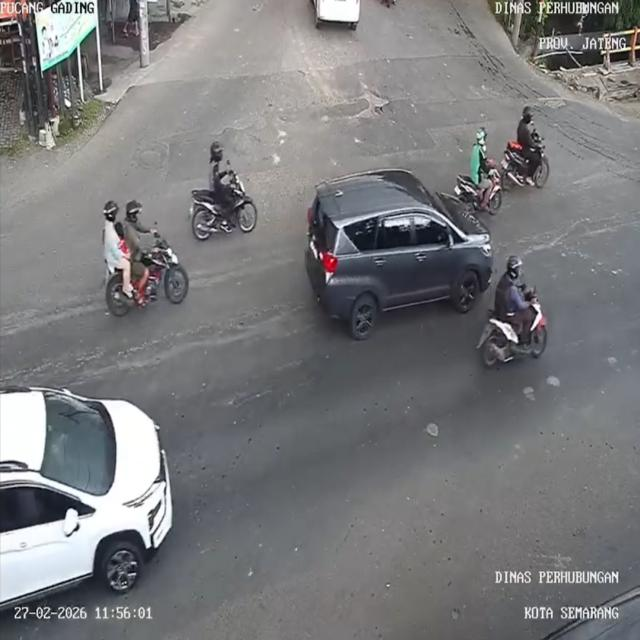motorcycle: (104, 239, 188, 319), (479, 305, 550, 370), (190, 185, 263, 236), (500, 147, 550, 193), (454, 173, 506, 217)
person: (493, 252, 535, 318), (126, 198, 155, 288), (468, 125, 494, 187), (101, 198, 122, 272), (206, 139, 230, 200), (516, 105, 537, 152), (113, 220, 129, 258)
rider_region: (99, 199, 188, 320), (474, 253, 552, 372), (192, 139, 258, 243), (454, 125, 504, 214), (501, 102, 551, 191)
